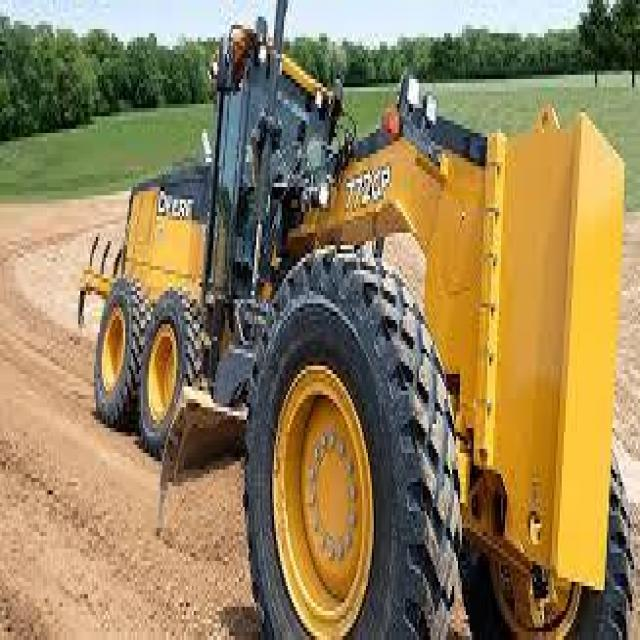Grader: (67, 12, 638, 636)
